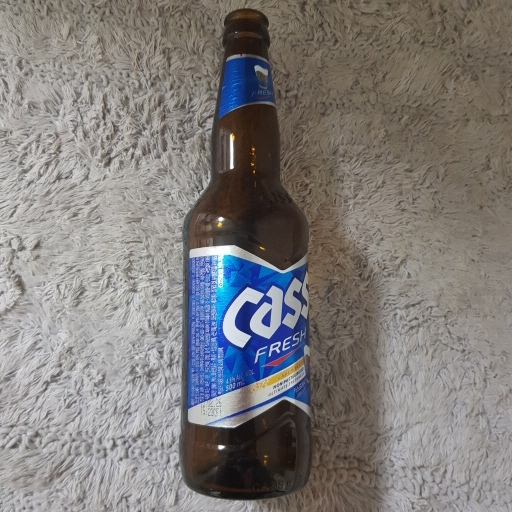Glass_1: (171, 8, 314, 501)
